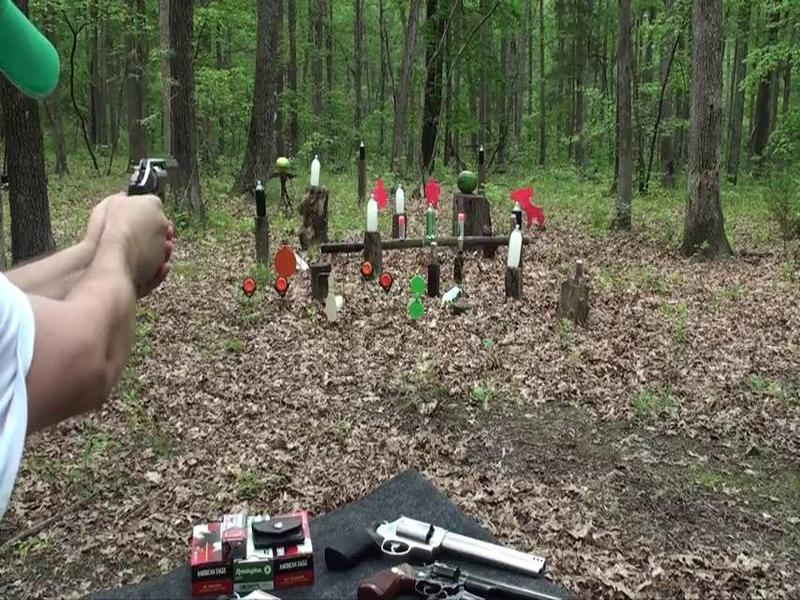Revolver: (100, 137, 200, 227)
